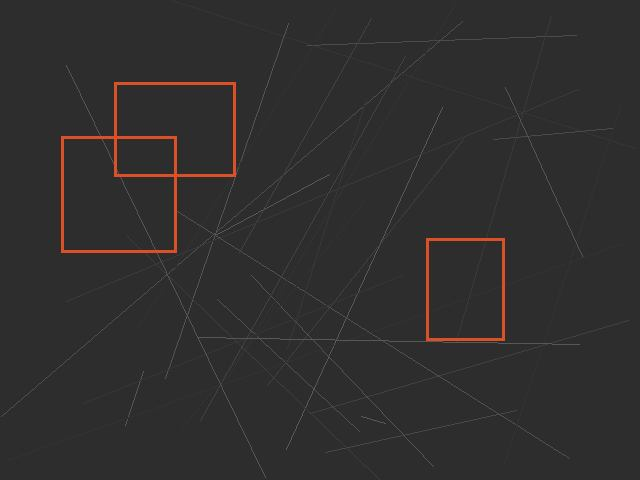D10: (61, 136, 176, 252)
D20: (114, 82, 235, 176), (426, 238, 504, 340)
